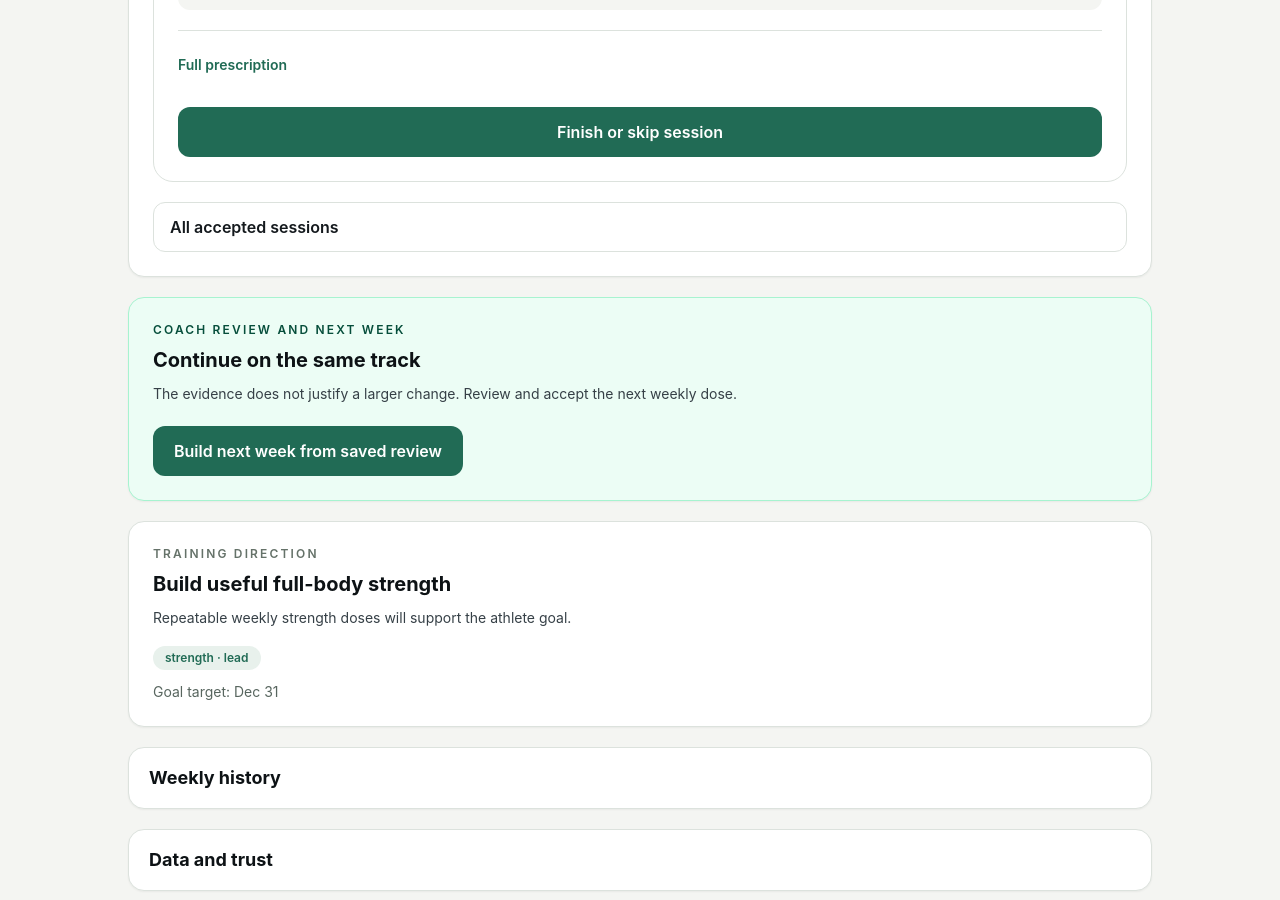
rolling weekly Program experience › uses a stored non-shift review to recover proposal generation after refresh
(page scrolled)
Click the button "Build next week from saved review": click(308, 451) [153,426,463,476]
(page scrolled)
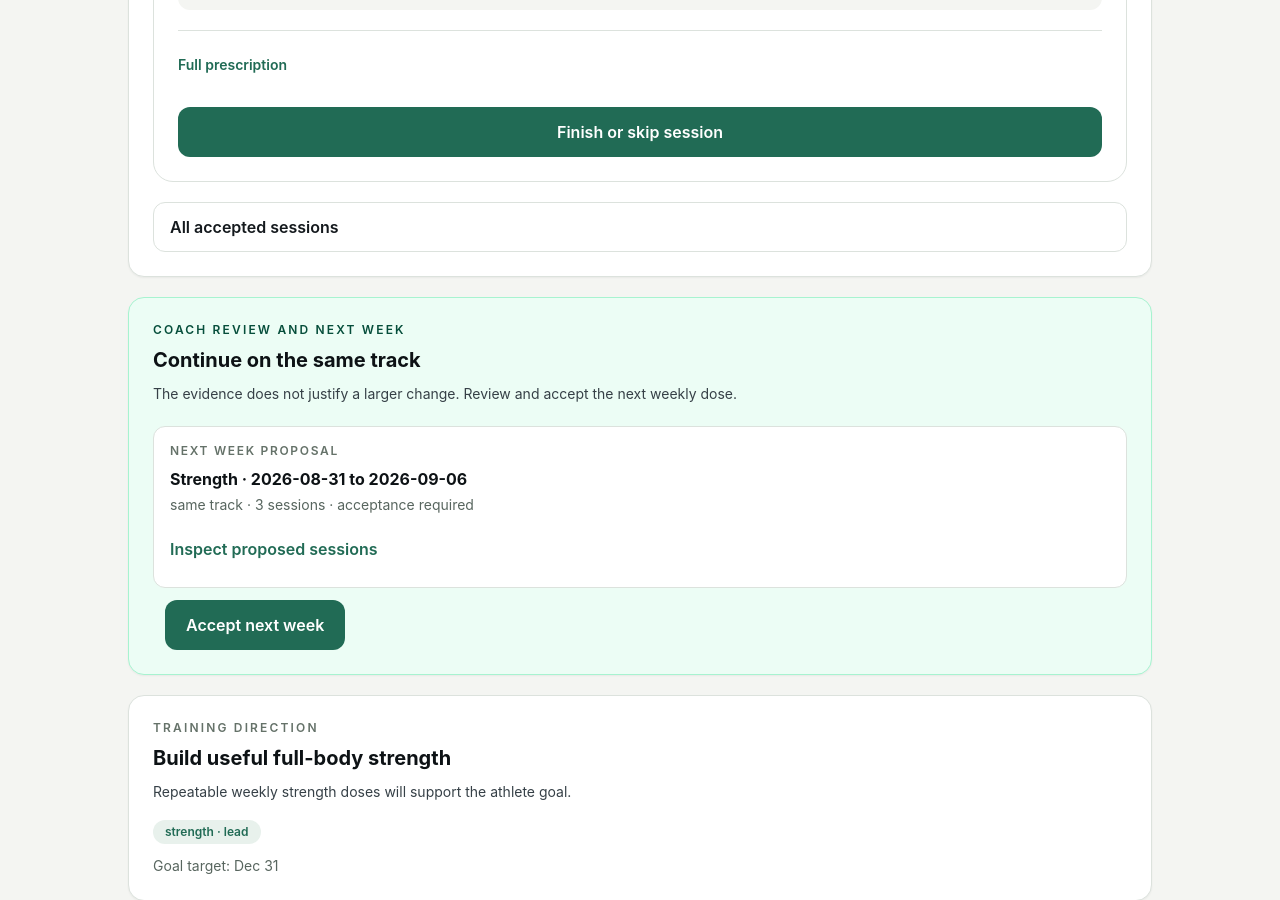
Expected: the text "Next week proposal" is shown, [170,443,339,458]
